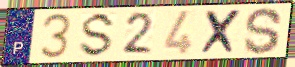2: (119, 10, 158, 58)
3: (38, 11, 73, 60)
4: (163, 8, 196, 58)
S: (242, 6, 285, 56), (77, 11, 118, 59)
X: (199, 8, 245, 56)
